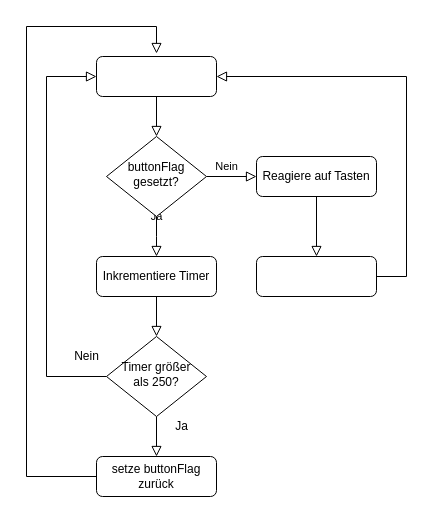
Some shapes in this 434 by 514 pixel diagram are drawn without their labels. The box of each missing label's shape, as (x1, y1, x2, y2) in pixels:
readInput: (96, 56, 216, 96)
Setze buttonFlag: (256, 256, 376, 296)
